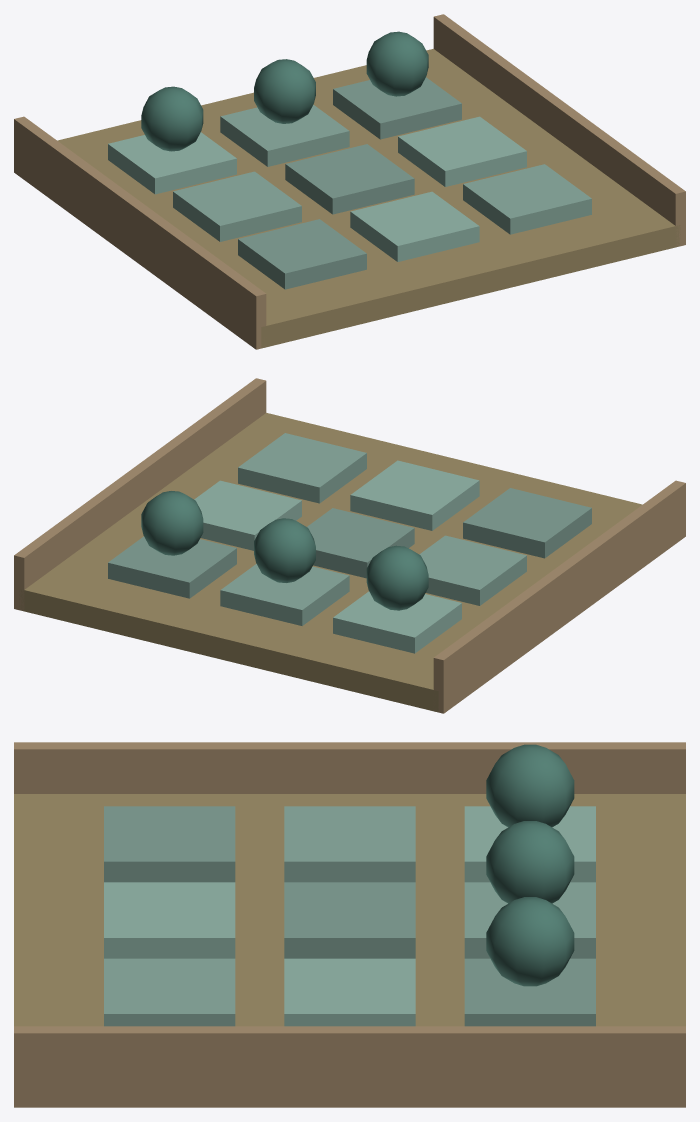
File: imp_yao_yuan.glb
3 renders of one model, top to bottom at view 1: azimuth 30°, elevation 25°; view 2: azimuth 150°, elevation 25°; view 3: azimuth 270°, elevation 25°, orthographic. The views are drawn at different scales.
Parts seen in each view (by area): view 1: _MeshInstance3D_195, _MeshInstance3D_208, _MeshInstance3D_209, _MeshInstance3D_200, _MeshInstance3D_203, _MeshInstance3D_202, _MeshInstance3D_204, _MeshInstance3D_199, _MeshInstance3D_201, _MeshInstance3D_197, _MeshInstance3D_196, _MeshInstance3D_198 (+3 smaller); view 2: _MeshInstance3D_195, _MeshInstance3D_208, _MeshInstance3D_209, _MeshInstance3D_203, _MeshInstance3D_202, _MeshInstance3D_204, _MeshInstance3D_199, _MeshInstance3D_197, _MeshInstance3D_198, _MeshInstance3D_196, _MeshInstance3D_200, _MeshInstance3D_201 (+3 smaller); view 3: _MeshInstance3D_195, _MeshInstance3D_209, _MeshInstance3D_208, _MeshInstance3D_199, _MeshInstance3D_200, _MeshInstance3D_203, _MeshInstance3D_202, _MeshInstance3D_201, _MeshInstance3D_204, _MeshInstance3D_198, _MeshInstance3D_207, _MeshInstance3D_205 (+3 smaller).
Part boxes in pixels (x1,y1,x2,y2): _MeshInstance3D_195: (57, 49, 680, 348); _MeshInstance3D_208: (14, 116, 266, 349); _MeshInstance3D_209: (433, 14, 685, 246); _MeshInstance3D_200: (285, 144, 414, 214); _MeshInstance3D_203: (350, 191, 479, 261); _MeshInstance3D_202: (238, 219, 366, 289); _MeshInstance3D_204: (463, 164, 591, 234); _MeshInstance3D_199: (173, 171, 301, 241); _MeshInstance3D_201: (398, 116, 526, 186); _MeshInstance3D_197: (220, 105, 349, 166); _MeshInstance3D_196: (108, 132, 236, 194); _MeshInstance3D_198: (333, 77, 461, 139); _MeshInstance3D_195: (19, 413, 642, 712); _MeshInstance3D_208: (433, 480, 685, 713); _MeshInstance3D_209: (14, 378, 266, 611); _MeshInstance3D_203: (350, 460, 479, 530); _MeshInstance3D_202: (463, 488, 591, 558); _MeshInstance3D_204: (238, 433, 366, 503); _MeshInstance3D_199: (419, 535, 526, 605); _MeshInstance3D_197: (220, 564, 349, 625); _MeshInstance3D_198: (108, 536, 236, 598); _MeshInstance3D_196: (333, 591, 461, 653); _MeshInstance3D_200: (307, 508, 414, 578); _MeshInstance3D_201: (194, 480, 301, 550); _MeshInstance3D_195: (14, 794, 685, 1026); _MeshInstance3D_209: (14, 1026, 685, 1107); _MeshInstance3D_208: (14, 742, 685, 793); _MeshInstance3D_199: (284, 806, 415, 882); _MeshInstance3D_200: (284, 882, 415, 958); _MeshInstance3D_203: (104, 882, 235, 958); _MeshInstance3D_202: (104, 806, 235, 882); _MeshInstance3D_201: (284, 958, 415, 1026); _MeshInstance3D_204: (104, 958, 235, 1026); _MeshInstance3D_198: (464, 958, 595, 1026); _MeshInstance3D_207: (486, 897, 574, 986); _MeshInstance3D_205: (486, 744, 574, 827).
Bounding box in the file's own units: 0.84 × 0.185 × 0.82.
